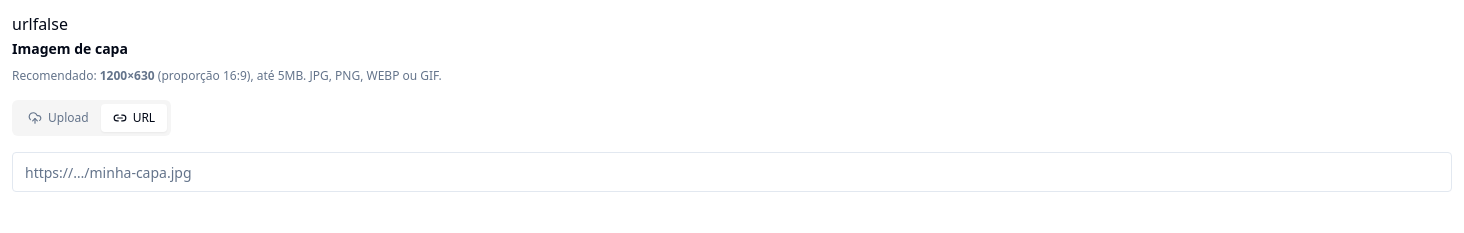
CoverSourceField — modo URL › URL vazia limpa erro
Type "bad" into the field with placeholder "https://…/minha-capa.jpg" at (732, 172), box top-left (12, 152), bottom-right (1452, 192)
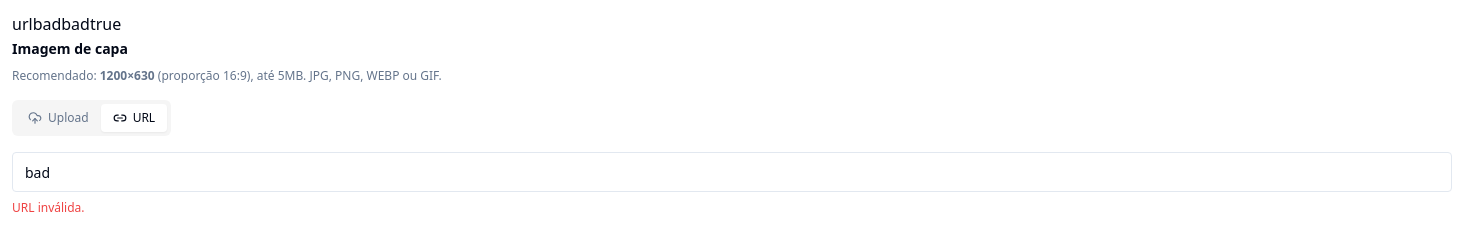
Now the message "URL inválida." is shown, box top-left (12, 199), bottom-right (84, 216)
Clear the field with placeholder "https://…/minha-capa.jpg" at (732, 172), box top-left (12, 152), bottom-right (1452, 192)
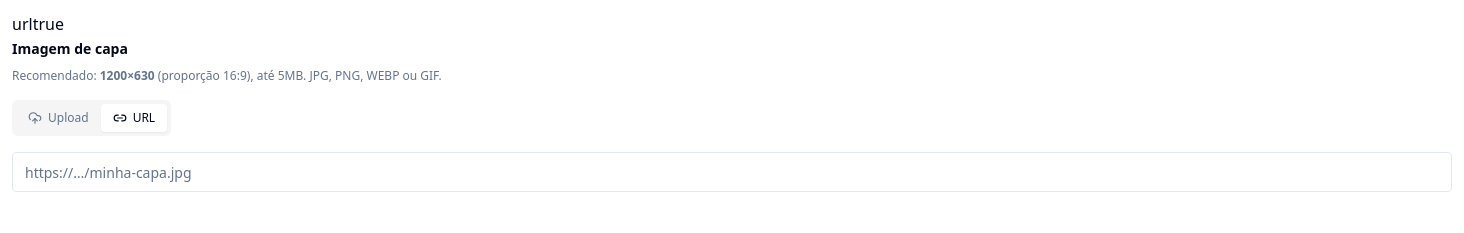
Now the message "URL inválida." is gone
